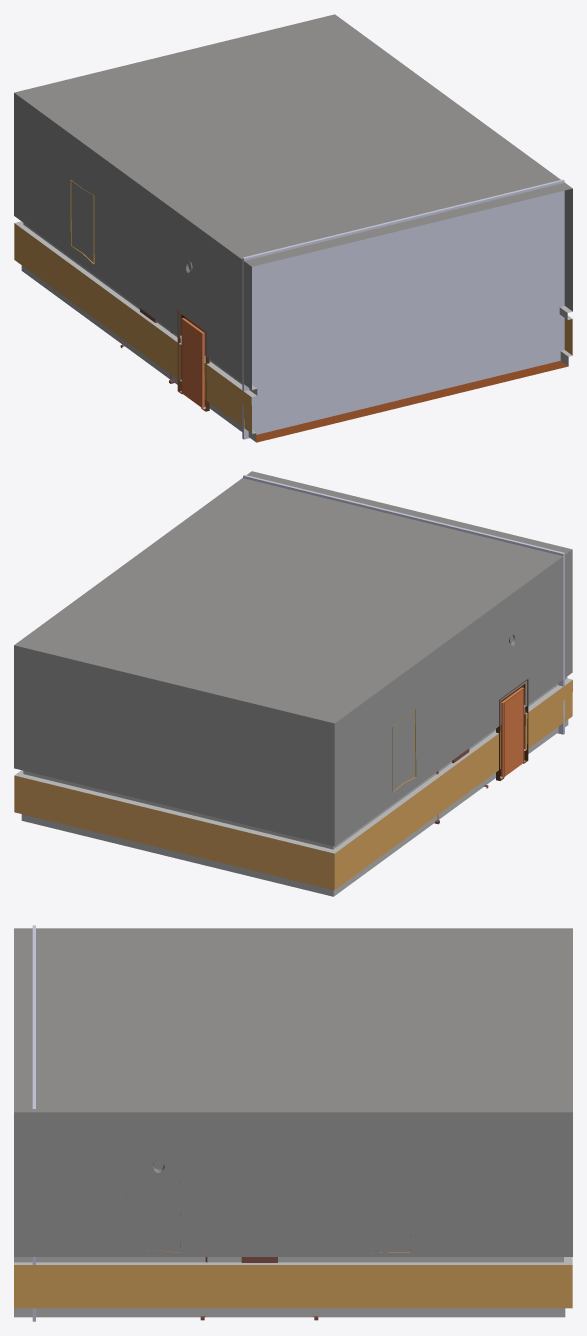
The model's file is GabinetePresidencial.fbx.
3 renders of one model, top to bottom at view 1: azimuth 30°, elevation 25°; view 2: azimuth 150°, elevation 25°; view 3: azimuth 270°, elevation 25°, orthographic. The views are drawn at different scales.
Visible parts, largest first — view 1: Sala, Janela, Porta, Batente; view 2: Sala, Porta, Janela, Batente; view 3: Sala, Janela.
Part boxes in pixels (x1=…): Sala: x1=14, y1=14, x2=572, y2=442; Janela: x1=242, y1=179, x2=564, y2=439; Porta: x1=181, y1=318, x2=204, y2=408; Batente: x1=177, y1=309, x2=209, y2=411; Sala: x1=14, y1=471, x2=572, y2=896; Porta: x1=501, y1=687, x2=524, y2=777; Janela: x1=243, y1=474, x2=564, y2=734; Batente: x1=496, y1=679, x2=528, y2=780; Sala: x1=14, y1=928, x2=572, y2=1317; Janela: x1=32, y1=925, x2=35, y2=1321.
Bounding box in the file's own units: 1390 × 737 × 1756.
